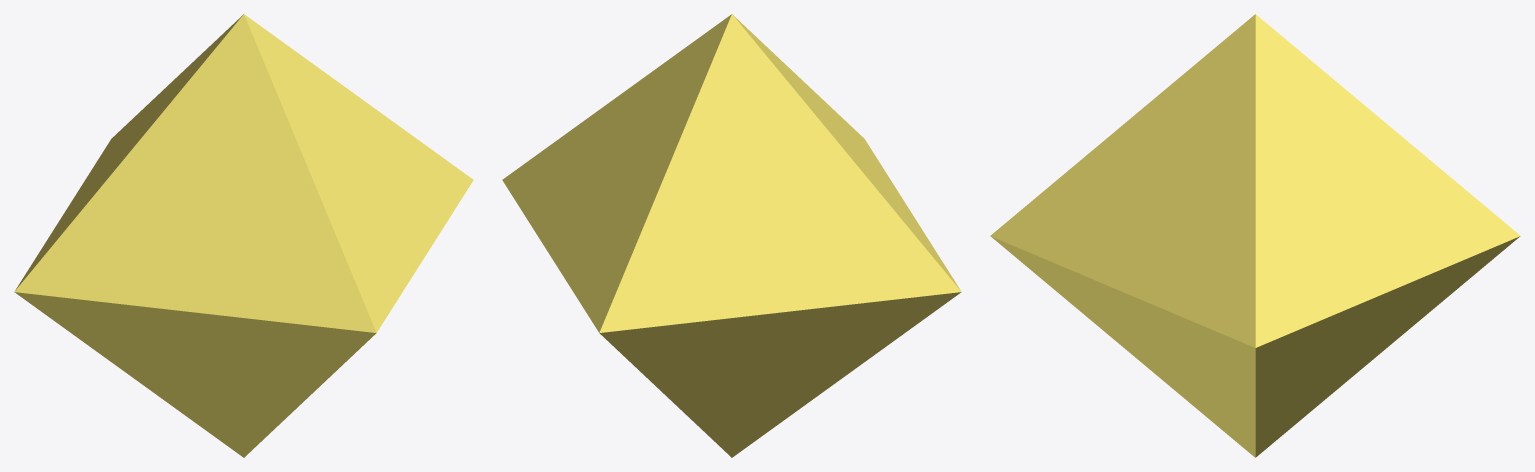
File: octahedron.glb
3 views of the same model, side by side, from view 1: azimuth 30°, elevation 25°; view 2: azimuth 150°, elevation 25°; view 3: azimuth 270°, elevation 25° (orthographic).
Size of the model in its own units: 26 by 24 by 26.
